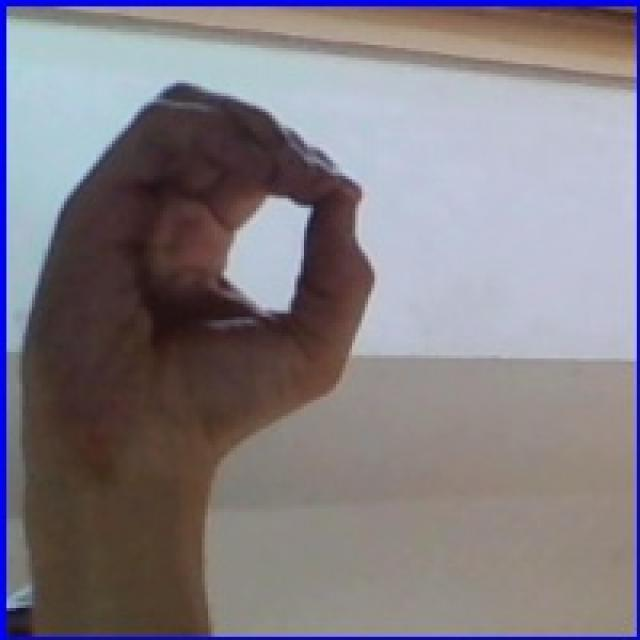Letra-O: (3, 69, 396, 497)
